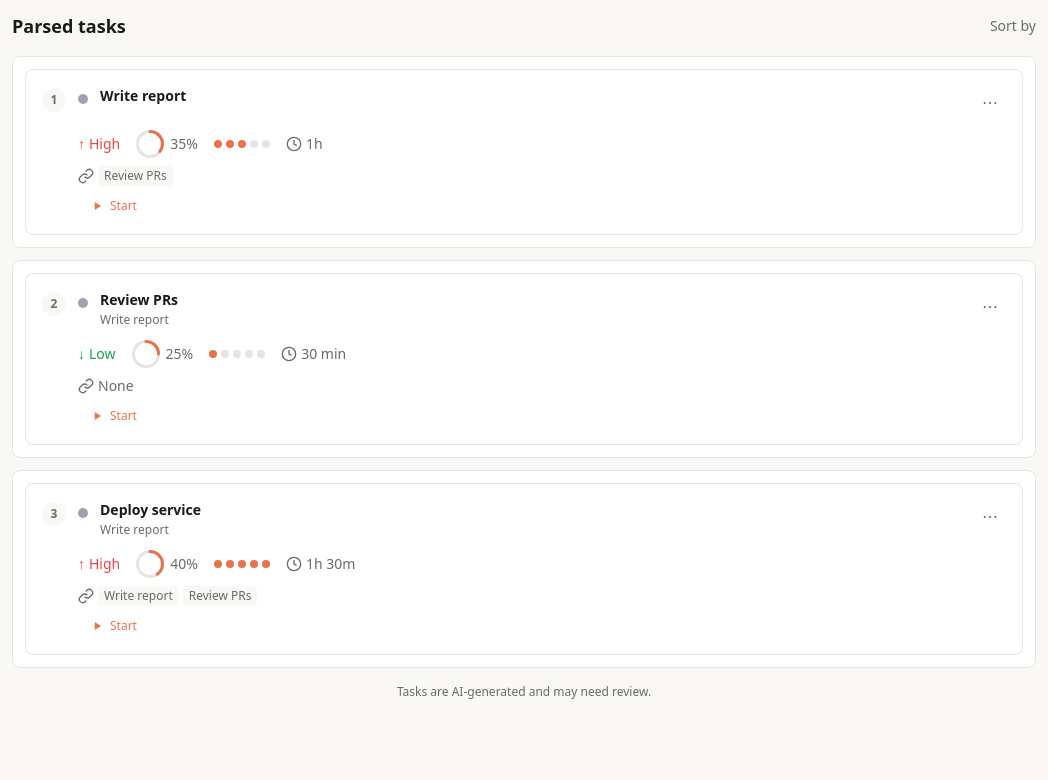
MetricsDisplay › shows the dependency list when a task with dependencies is selected
Click on task t3 which depends on t1 and t2
What coordinates should you click on to do the following:
click the button with test id "metrics-task-t3"
I would click on:
 (524, 656)
Its box is [12,470,1036,668].
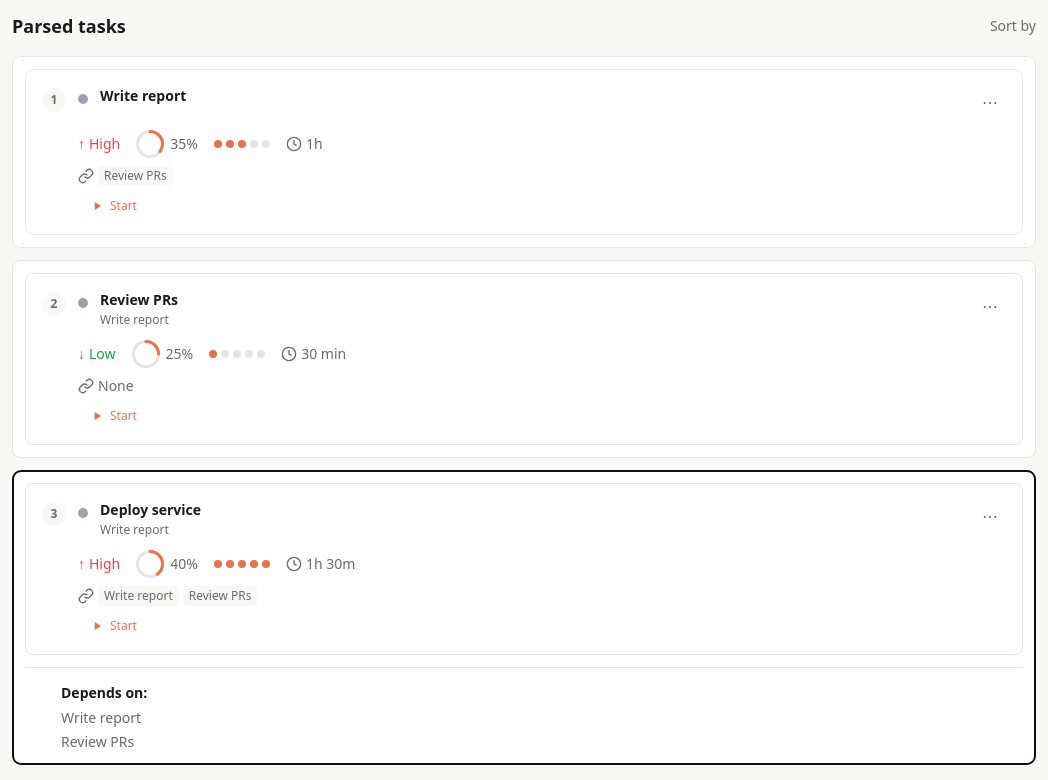
Result: the list item with test id "dep-t3-t1" reads "Write report" at [61,708,141,727]
Result: the list item with test id "dep-t3-t2" reads "Review PRs" at [61,732,134,751]
